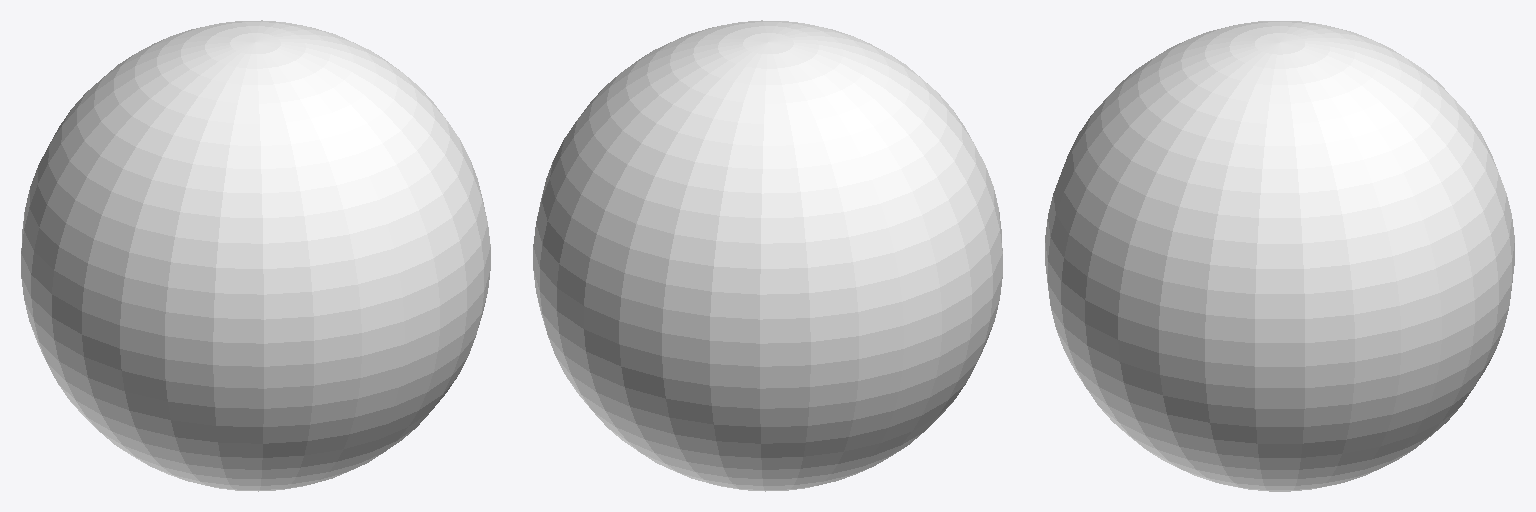
URDF robot description (obs):
<?xml version="1.0" ?>
<robot name="obs">
  <link name="obs_Link">
    <inertial>
      <origin rpy="0 0 0" xyz="0 0 0"/>
       <mass value=".0"/>
       <inertia ixx="0" ixy="0" ixz="0" iyy="0" iyz="0" izz="0"/>
    </inertial>
    <visual>
      <origin rpy="0 0 0" xyz="0 0 0"/>
      <geometry>
	      <mesh filename="obs001.stl" scale="1 1 1"/>
      </geometry>
      <material name="white">
        <color rgba="1 1 1 1"/>
      </material>
    </visual>
  </link>
</robot>

--- Render facts (derived) ---
The picture shows the robot from 3 angles, left to right: view 1: azimuth 30°, elevation 25°; view 2: azimuth 150°, elevation 25°; view 3: azimuth 270°, elevation 25°; orthographic projection.
Model obs with 1 links and 0 joints (none), rooted at obs_Link, posed all joints at 0.
Visible links, largest first — view 1: obs_Link; view 2: obs_Link; view 3: obs_Link.
Boxes of the visible links, bbox=[...] form: obs_Link: bbox=[21, 20, 490, 491]; obs_Link: bbox=[533, 20, 1002, 491]; obs_Link: bbox=[1045, 21, 1514, 491].
Bounding box of the posed robot: 1.99 × 1.99 × 2 m (x, y, z).
Meshes: 1 distinct files referenced, 1 mesh visuals loaded (1 binary STL).
